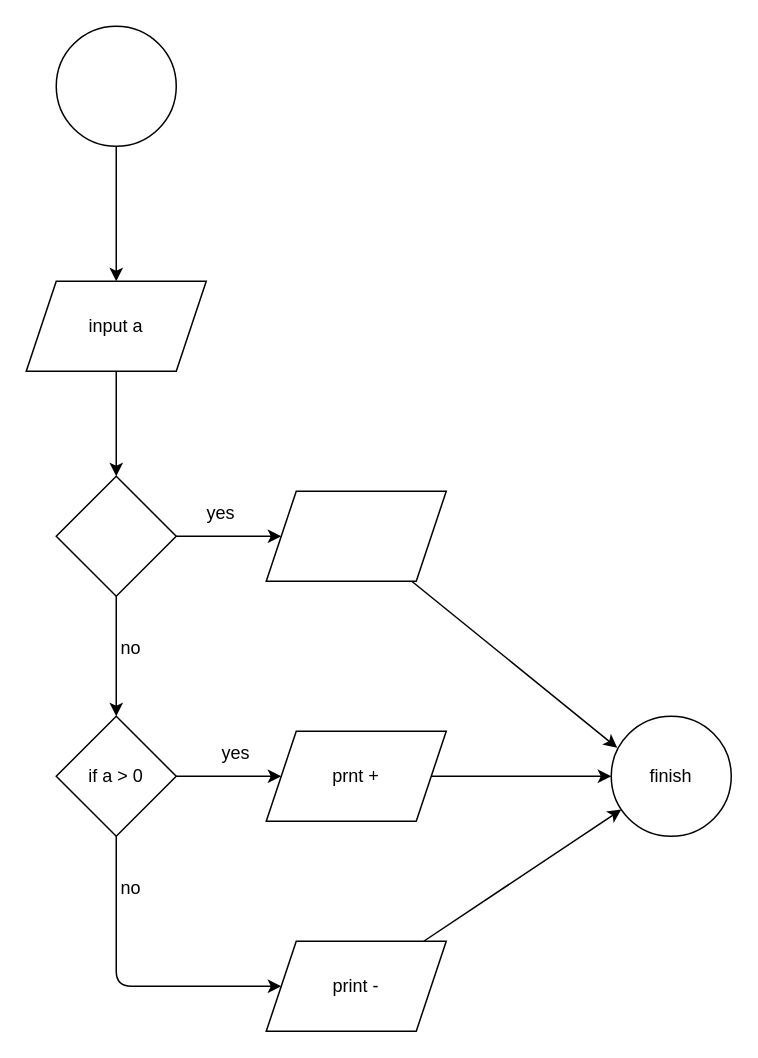
Image size: 758x1058. Some labels were removed from this diagram. The box of each missing label's shape, as (x1, y1, x2, y2) in pixels:
if a = 0: (55, 475, 176, 596)
print zero: (265, 490, 446, 581)
start: (55, 25, 176, 146)
